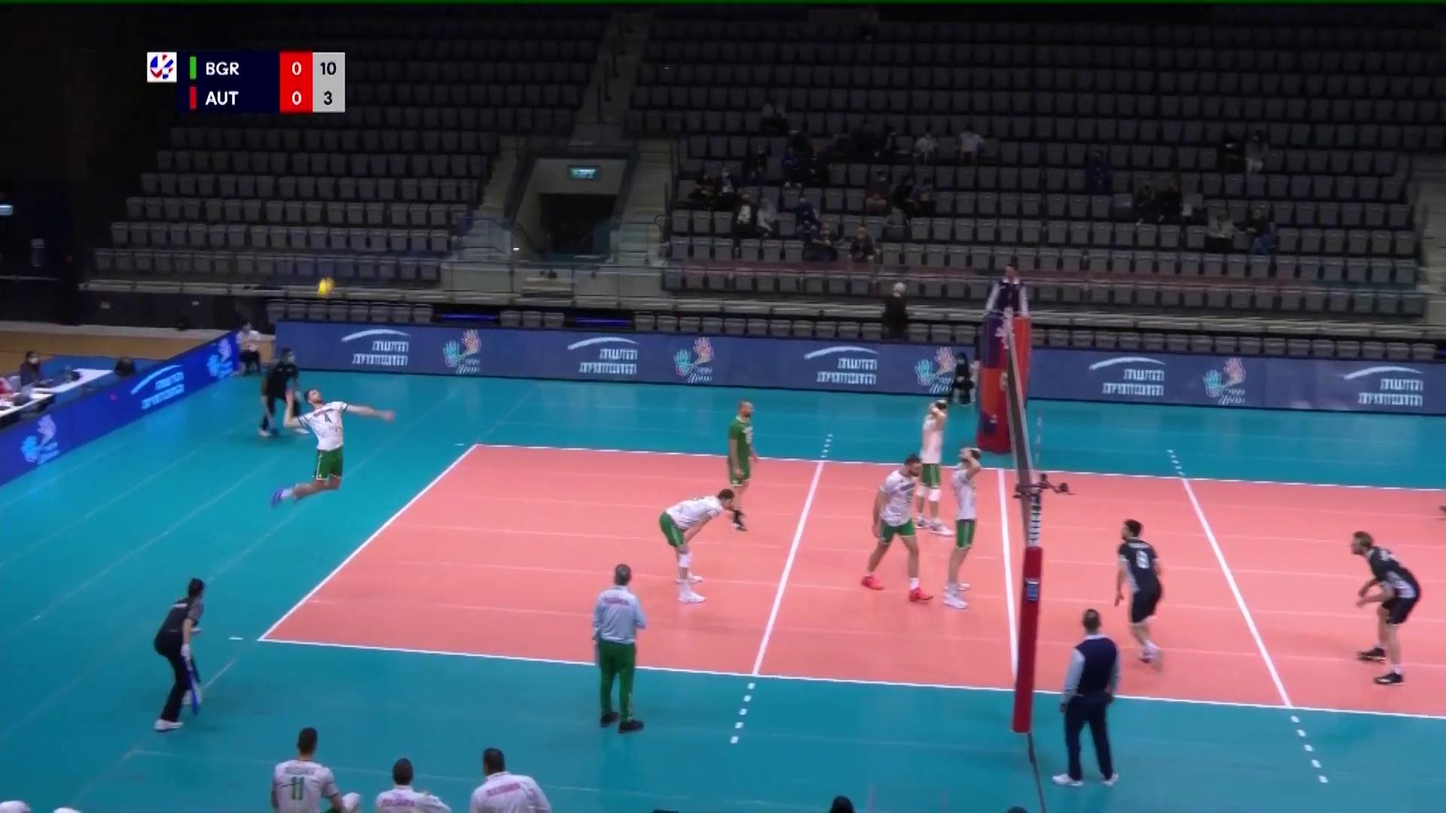ball: (316, 275, 338, 298)
